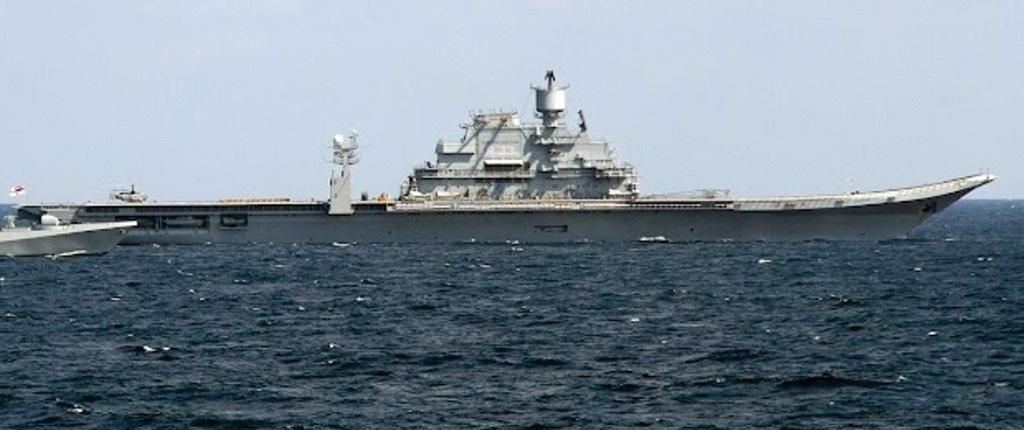Warship: (16, 66, 1006, 244)
